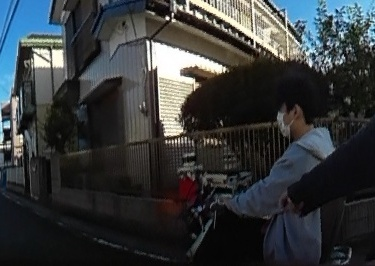person: (252, 72, 336, 263)
